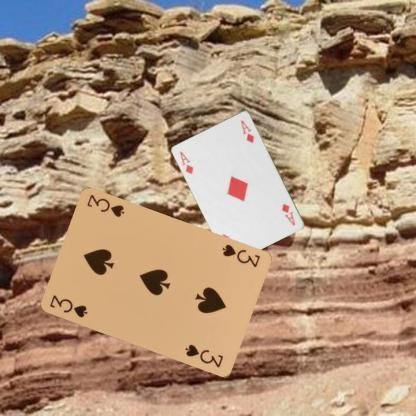3s: (218, 242, 262, 269), (47, 292, 89, 320)
Ad: (278, 201, 297, 227), (177, 149, 195, 175)
